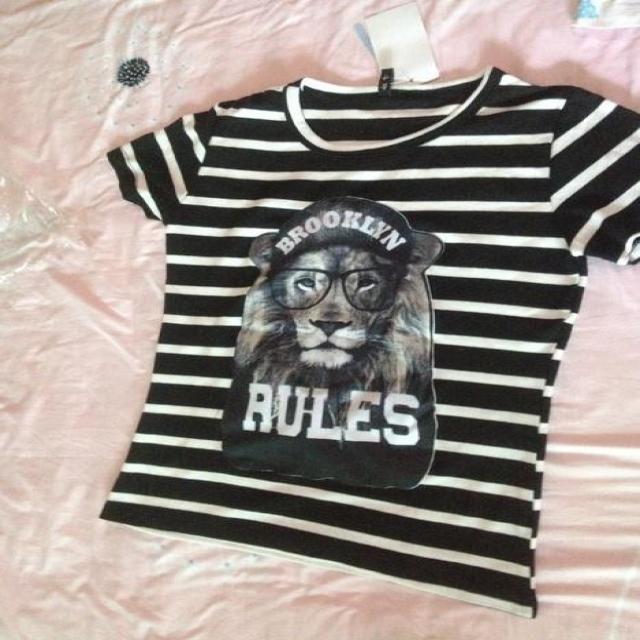short sleeve top: (101, 70, 636, 614)
